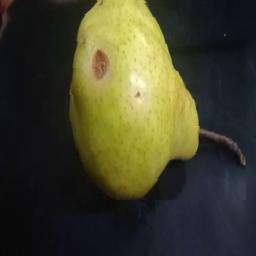Pear Semifresh: (58, 0, 246, 200)
